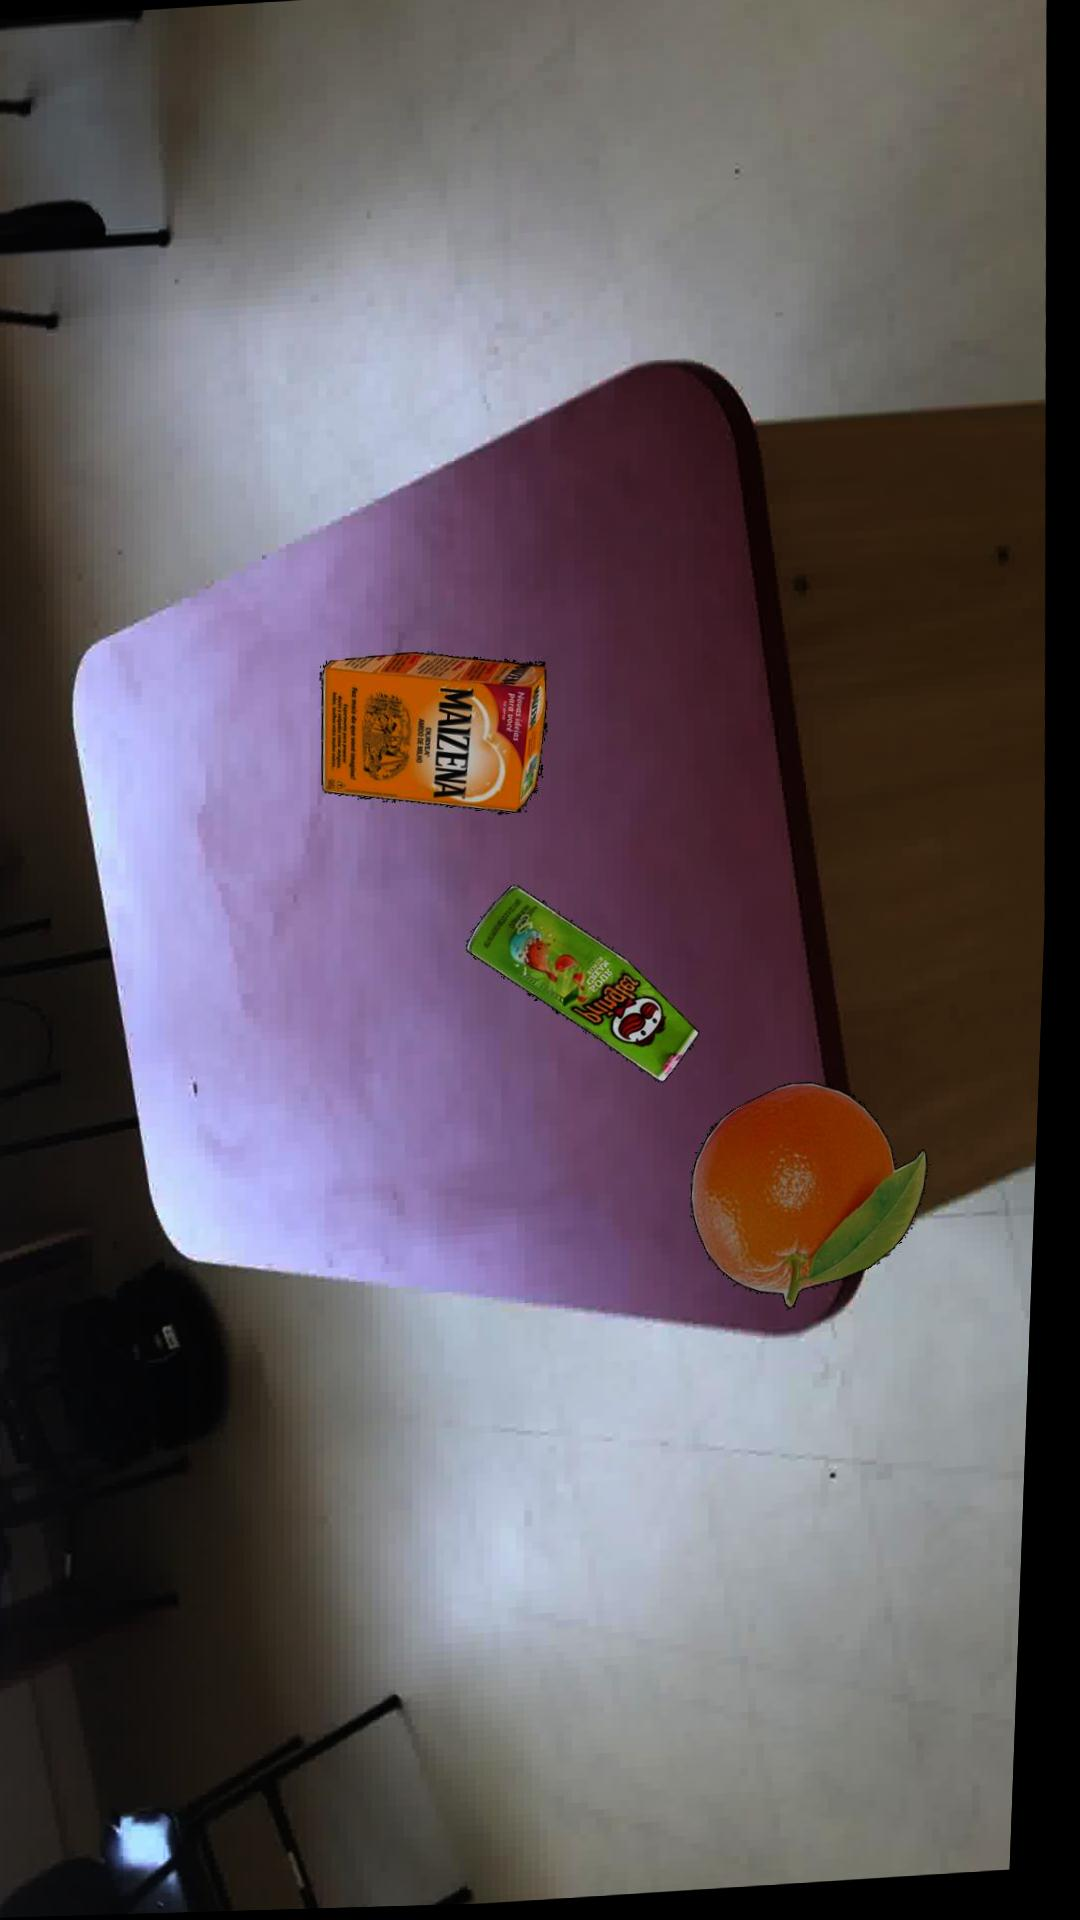orange: (700, 1085, 937, 1312)
pringles: (475, 885, 708, 1085)
